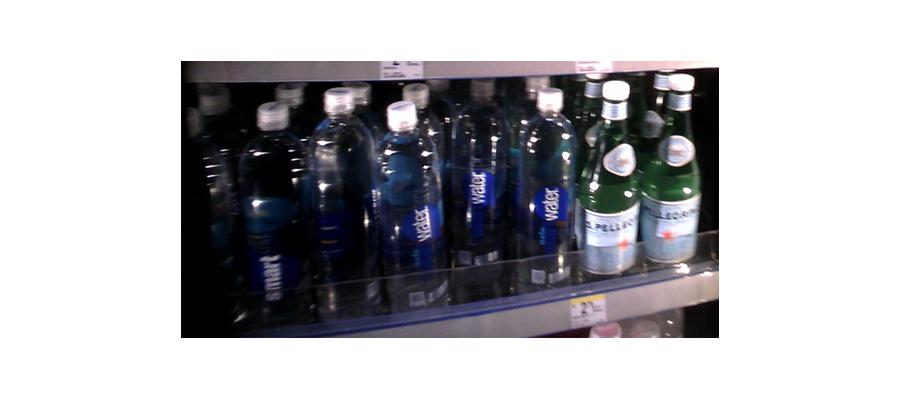bottle: (306, 89, 376, 323), (240, 99, 303, 331), (373, 106, 444, 311), (515, 87, 578, 290), (447, 92, 507, 303), (582, 88, 641, 279), (645, 77, 701, 271)
